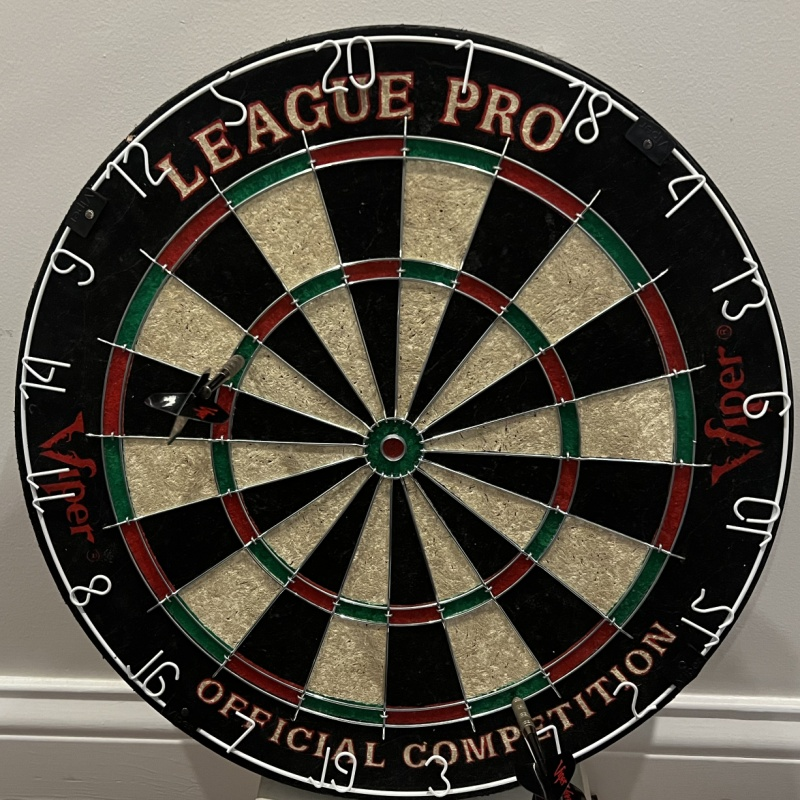dart: (504, 690, 531, 714), (229, 352, 247, 375)
eleven: (25, 466, 77, 513)
six: (743, 392, 793, 420)
three: (422, 757, 450, 797)
twenty: (315, 36, 376, 92)
